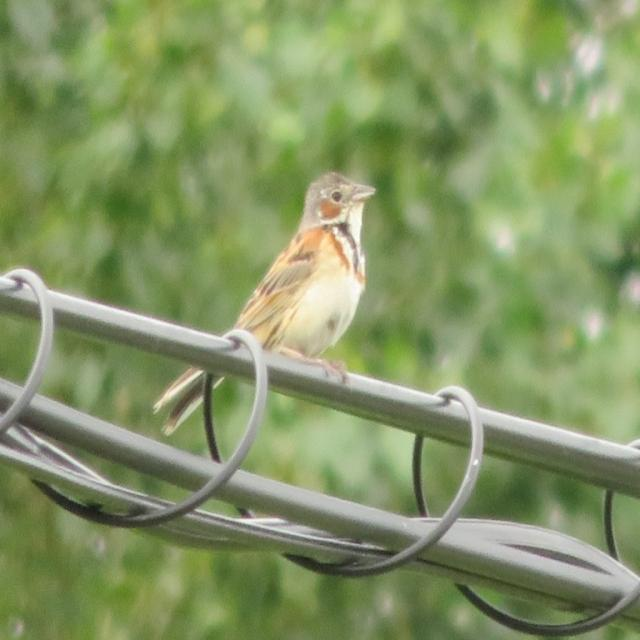bird: (155, 174, 374, 429)
